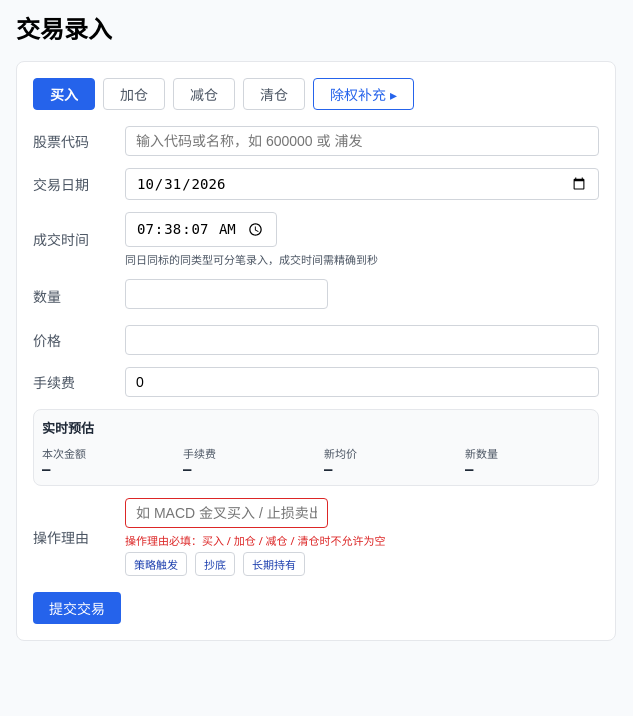
T68 ⑥ · 除权补充（理由自动填 + 不可编辑） › 切到「送股」→ 理由自动填「人工补充 - {除权日} 送股」且只读
The image size is (633, 716).
Type "2026-10-20" into the date field labelled "交易日期" at point(362, 184), box [125,168,599,200]
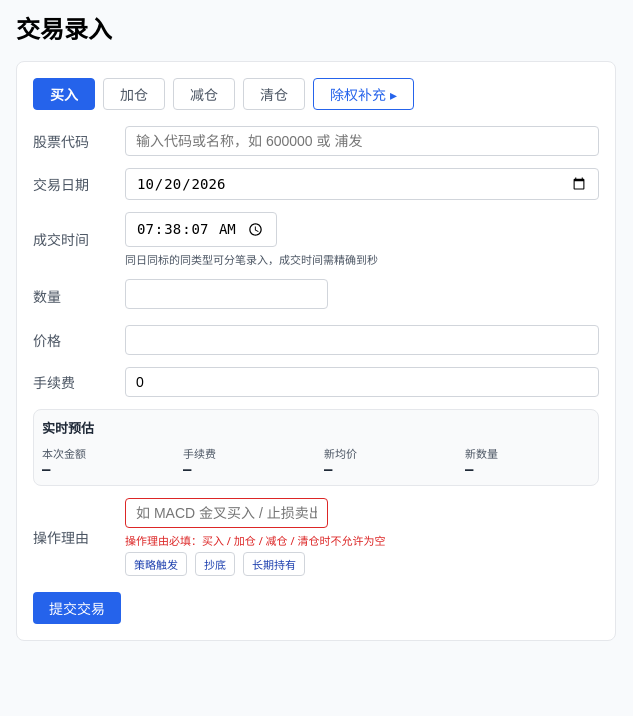
Click the tab "除权补充 ▸" at point(363, 94), box [313,78,414,110]
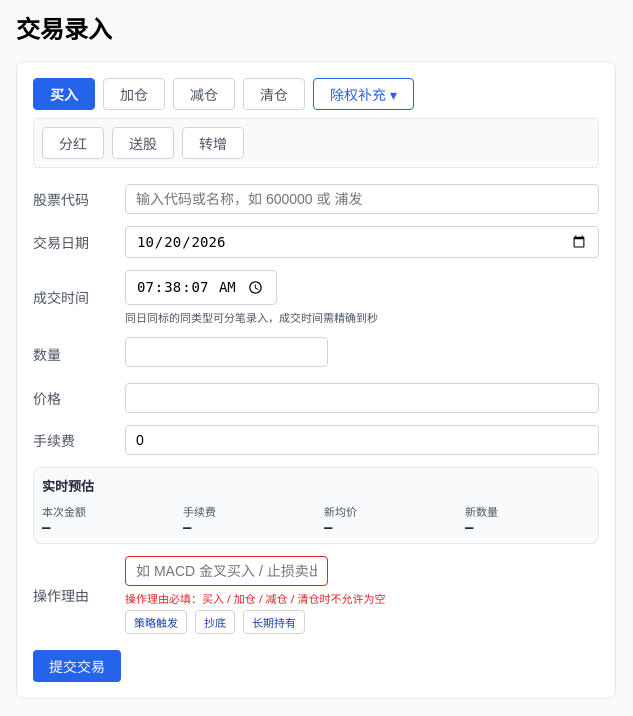
Click the button with test id "trade-tab-bonus" at point(143, 143), box [112,127,174,159]
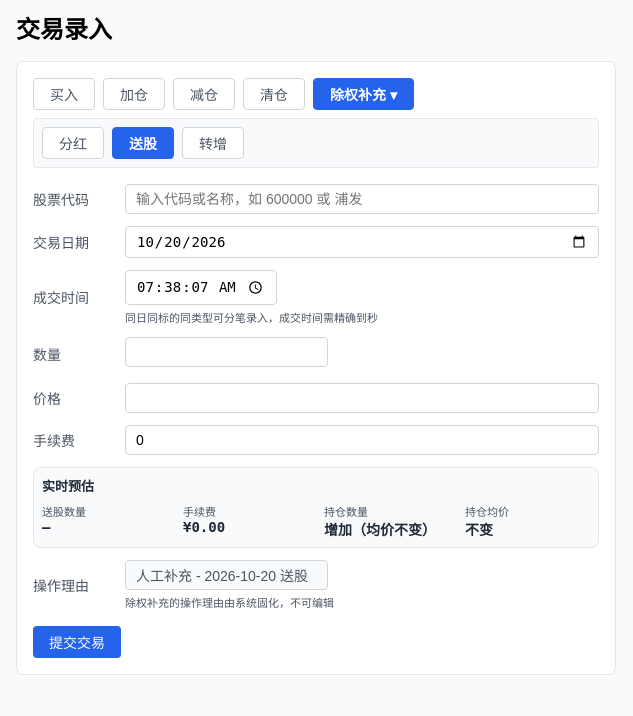
Expected: the field labelled "操作理由" holds "人工补充 - 2026-10-20 送股", [125,560,328,590]
